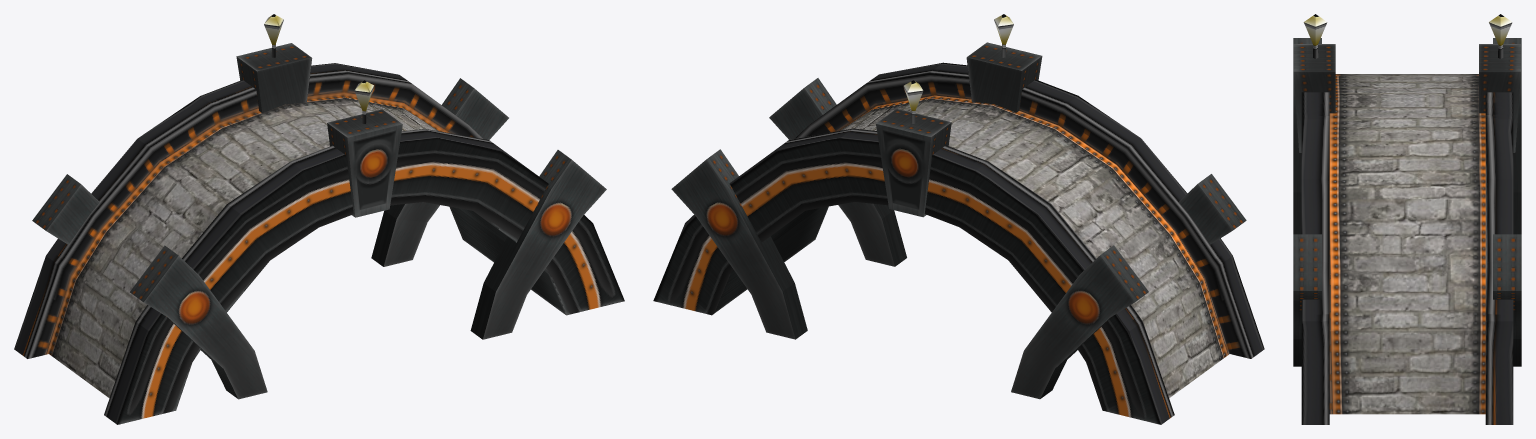
File: _Bridge_low.FBX
3 renders of one model, left to right at view 1: azimuth 30°, elevation 25°; view 2: azimuth 150°, elevation 25°; view 3: azimuth 270°, elevation 25°, orthographic. The views are drawn at different scales.
Visible parts, largest first — view 1: bridge, Object004, Object003, Object001, Object005, Object002, Object006; view 2: bridge, Object005, Object006, Object002, Object004, Object001, Object003; view 3: bridge, Object004, Object005, Object001, Object002, Object006, Object003, Object008, Object007.
Part boxes in pixels (box(x1,y1,x2,y2)): bridge: box(14, 63, 624, 424); Object004: box(470, 150, 606, 339); Object003: box(130, 245, 267, 399); Object001: box(327, 109, 402, 217); Object005: box(371, 78, 508, 266); Object002: box(236, 43, 312, 113); Object006: box(32, 174, 99, 244); bridge: box(653, 62, 1264, 424); Object005: box(671, 149, 807, 339); Object006: box(1011, 245, 1148, 399); Object002: box(876, 109, 951, 217); Object004: box(769, 78, 906, 266); Object001: box(966, 42, 1042, 112); Object003: box(1179, 174, 1246, 244); bridge: box(1301, 74, 1513, 424); Object004: box(1293, 234, 1321, 366); Object005: box(1493, 234, 1521, 366); Object001: box(1293, 44, 1335, 152); Object002: box(1479, 44, 1520, 152); Object006: box(1493, 38, 1521, 234); Object003: box(1293, 38, 1321, 234); Object008: box(1489, 14, 1512, 58); Object007: box(1303, 14, 1327, 58).
Size of the model in its own units: 10.19 by 5.33 by 3.88.
1 material, 1 textured.
